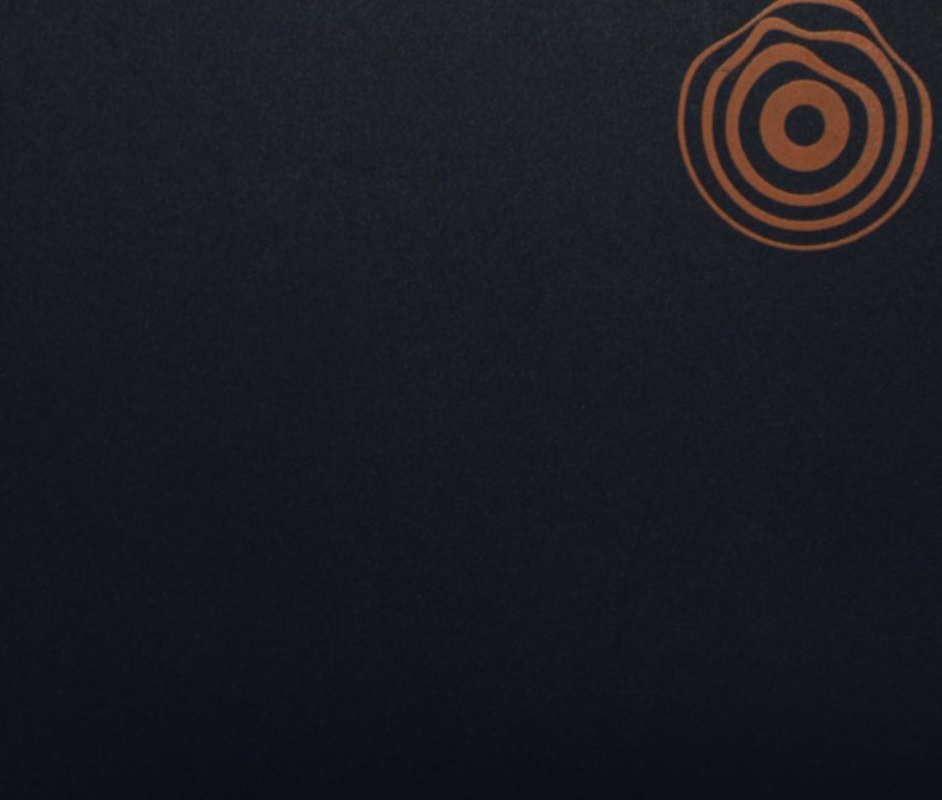BU_HG680GY: (665, 7, 934, 261)
